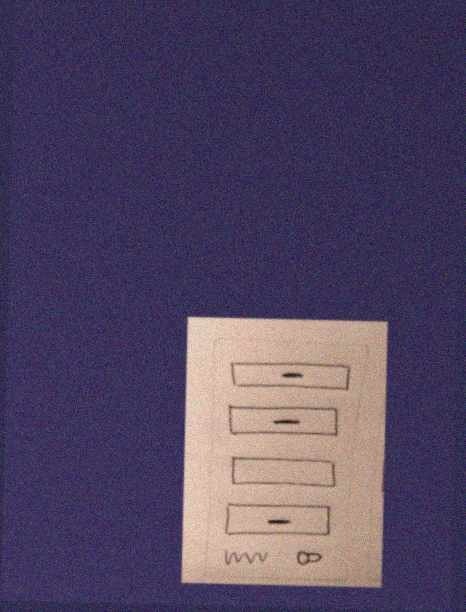button: (228, 358, 353, 398), (222, 501, 333, 544), (224, 403, 342, 441)
switch: (294, 548, 326, 570)
text: (222, 547, 270, 571)
text_input: (225, 453, 341, 494)
